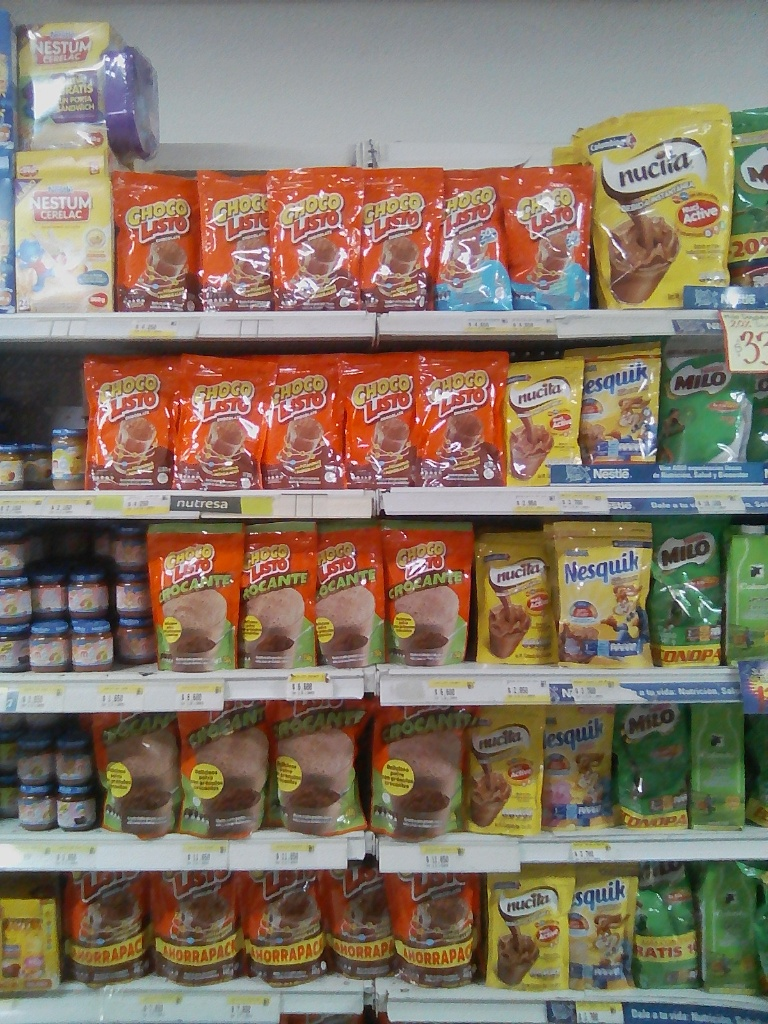COL0170102DYP25000: (140, 521, 237, 674)
COL0170103DYP44000: (148, 858, 242, 982)
COL0170104DYP20000: (435, 160, 512, 310)
COL0170203DYP25000: (659, 522, 730, 669)
COL0170205DYP50000: (662, 346, 753, 476)
COL0170303DYP20000: (549, 520, 655, 667)
COL0170305DYP20000: (548, 704, 618, 829)
COL0170306DYP20000: (567, 863, 636, 993)
